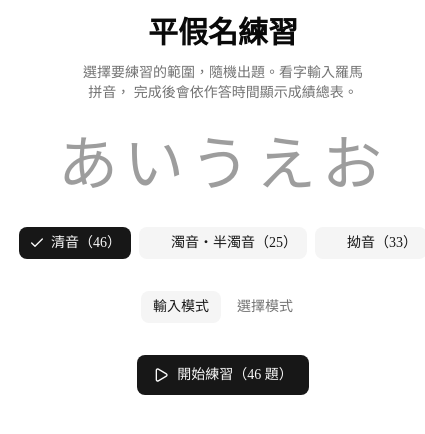
Test: practice flow › start button is disabled when no set is selected
The image size is (425, 434).
Step 1. Click the button "清音（46）" → x=75, y=243, box [19,227,131,259]
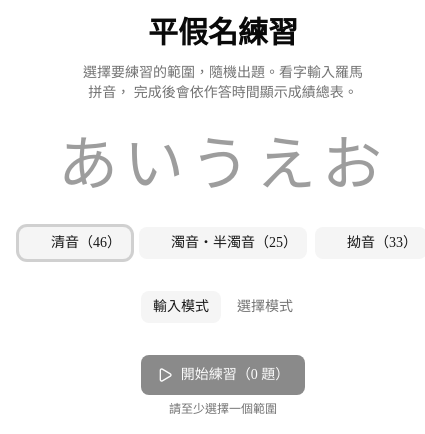
Result: the button "開始練習（0 題）" is disabled at [141,355,305,395]
Result: the text "請至少選擇一個範圍" is shown at [169,401,277,417]
